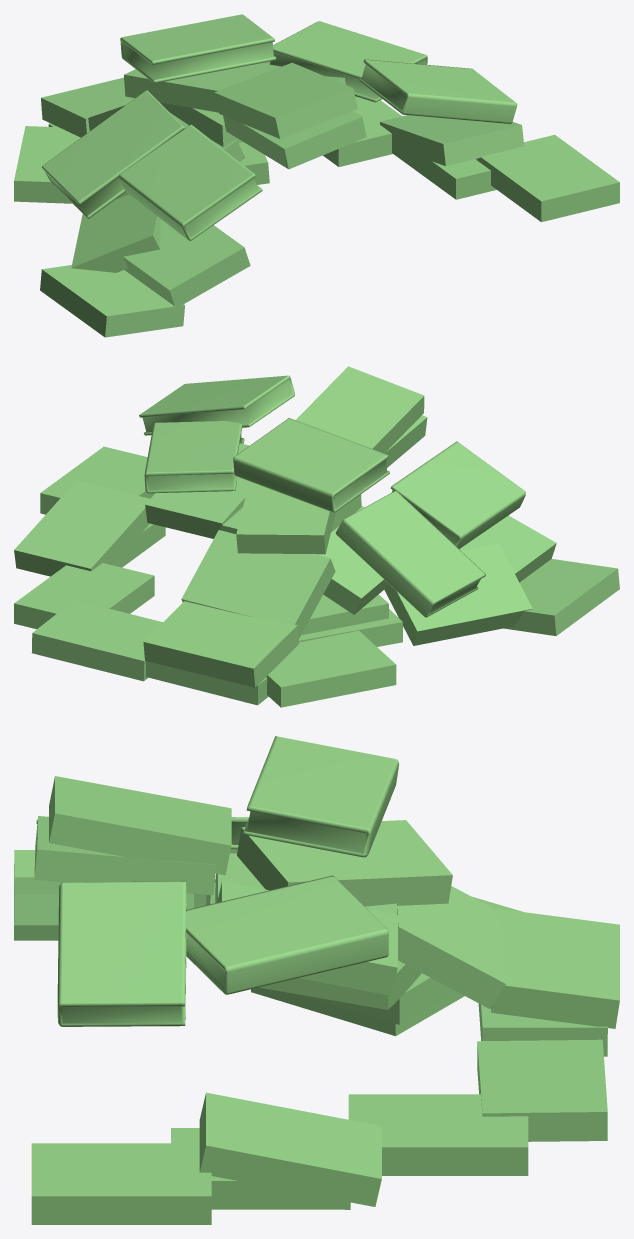
The model's file is Book_Pile_08A_Lod0.fbx.
3 renders of one model, top to bottom at view 1: azimuth 30°, elevation 25°; view 2: azimuth 150°, elevation 25°; view 3: azimuth 270°, elevation 25°, orthographic. The views are drawn at different scales.
Parts seen in each view (by area): view 1: Book_Pile_08A_Lod0; view 2: Book_Pile_08A_Lod0; view 3: Book_Pile_08A_Lod0.
Boxes of the visible parts, x1=… form: Book_Pile_08A_Lod0: x1=14, y1=14, x2=619, y2=337; Book_Pile_08A_Lod0: x1=14, y1=366, x2=619, y2=707; Book_Pile_08A_Lod0: x1=14, y1=736, x2=619, y2=1224.
Size of the model in its own units: 146 by 49.02 by 106.
